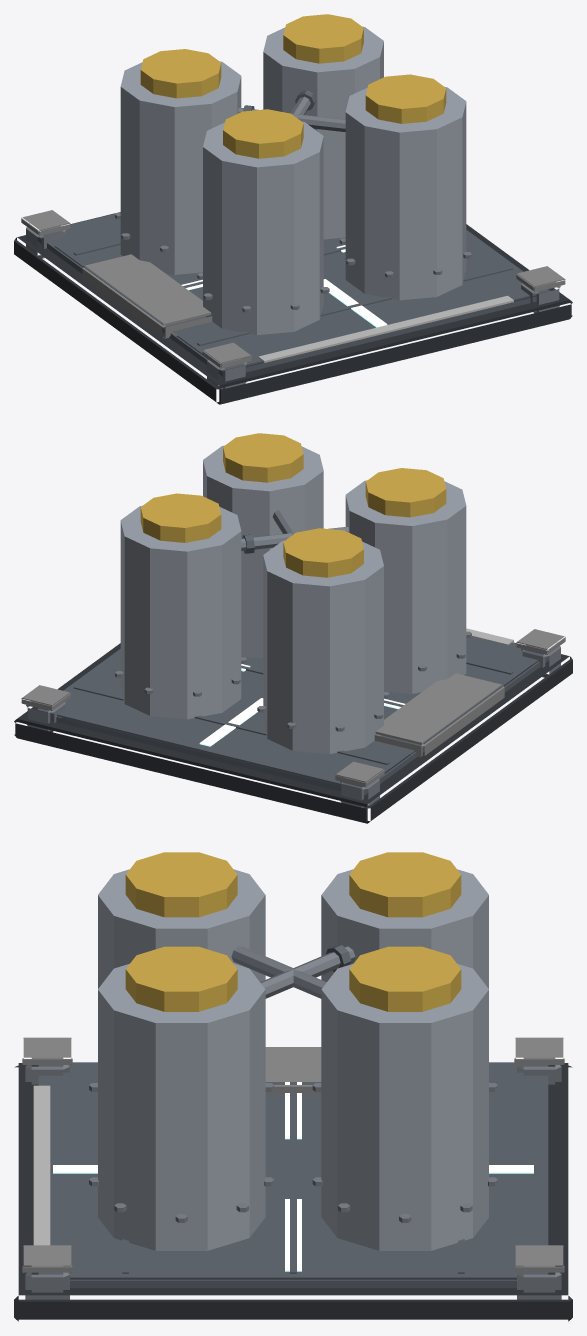
File: estore.glb
3 renders of one model, top to bottom at view 1: azimuth 30°, elevation 25°; view 2: azimuth 150°, elevation 25°; view 3: azimuth 270°, elevation 25°, orthographic. The views are drawn at different scales.
Visible parts, largest first — view 1: body; view 2: body; view 3: body.
Boxes of the visible parts, x1=… form: body: x1=14, y1=14, x2=572, y2=404; body: x1=14, y1=433, x2=572, y2=823; body: x1=14, y1=852, x2=572, y2=1321.
Bounding box in the file's own units: 48 × 26.88 × 48.
